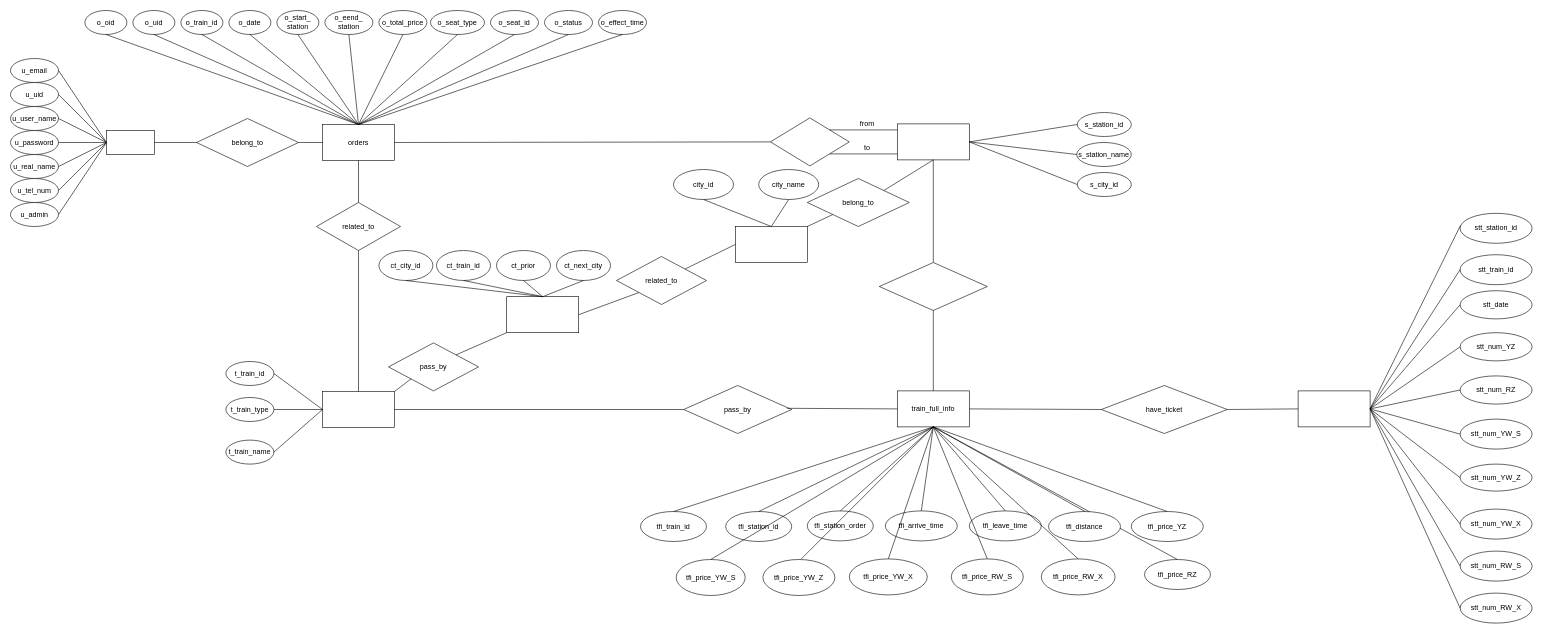
Some shapes in this 1543 by 634 pixel diagram are drawn without their labels. The centre of each missing label's shape, as x and y in pixels:
"city" belongs at pixel 771 244.
"city_train" belongs at pixel 542 314.
"from_to" belongs at pixel 809 141.
"station_list" belongs at pixel 933 141.
"station_tickets" belongs at pixel 1334 408.
"stay_in" belongs at pixel 933 286.
"train" belongs at pixel 358 409.
"users" belongs at pixel 130 142.
